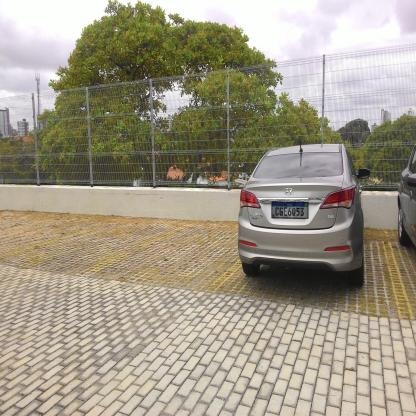PlacaM: (272, 202, 308, 218)
